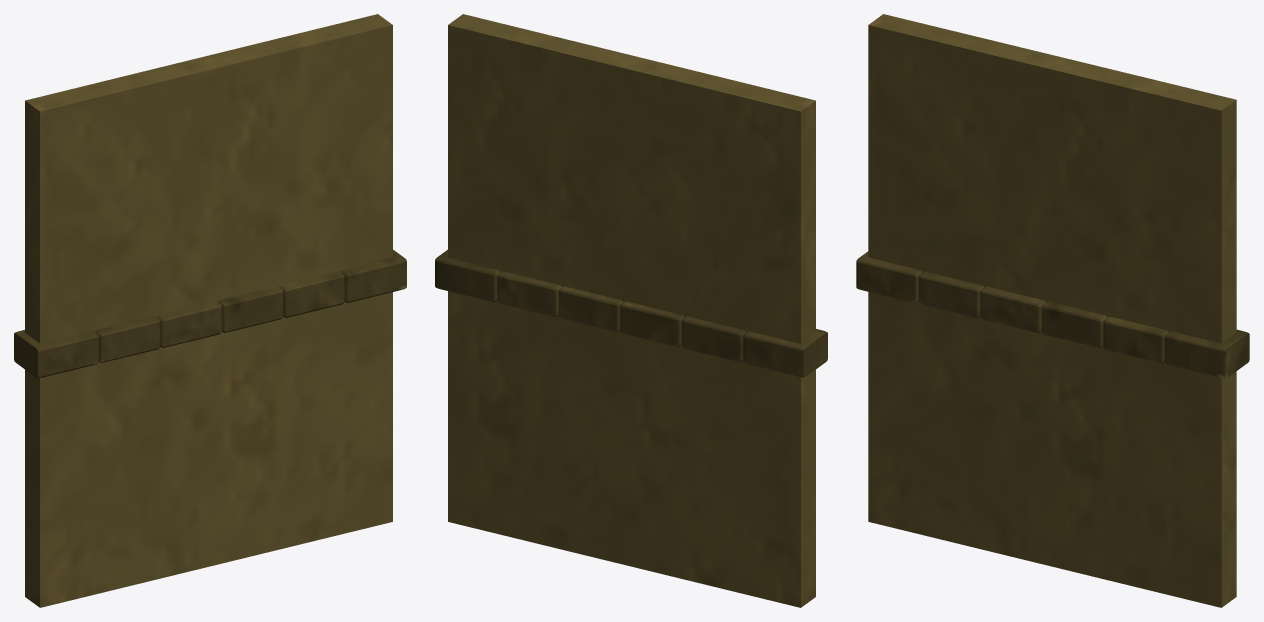
Rendered from Wall.fbx.
The picture shows the model from 3 angles, left to right: view 1: azimuth 30°, elevation 25°; view 2: azimuth 150°, elevation 25°; view 3: azimuth 330°, elevation 25°; orthographic projection.
Parts seen in each view (by area): view 1: Wall_1; view 2: Wall_1; view 3: Wall_1.
Part boxes in pixels (x1,y1,x2,y2): Wall_1: [14, 14, 406, 607]; Wall_1: [435, 14, 827, 607]; Wall_1: [856, 14, 1249, 607].
Bounding box in the file's own units: 643 × 828 × 74.99.
Materials: 1 (1 with a texture image).
